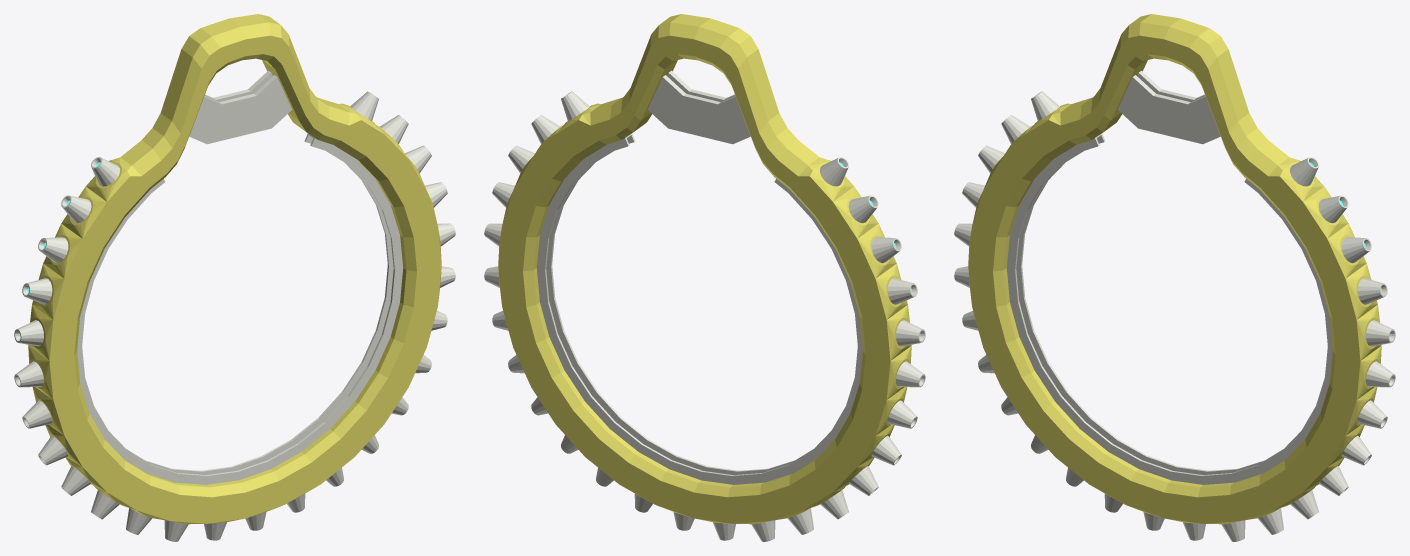
Rendered from boss portal.fbx.
The picture shows the model from 3 angles, left to right: view 1: azimuth 30°, elevation 25°; view 2: azimuth 150°, elevation 25°; view 3: azimuth 330°, elevation 25°; orthographic projection.
Visible parts, largest first — view 1: Circle.001; view 2: Circle.001; view 3: Circle.001.
Boxes of the visible parts, <box> form: Circle.001: <box>14,14,455,541</box>; Circle.001: <box>484,14,925,541</box>; Circle.001: <box>954,14,1395,541</box>.
Size of the model in its own units: 14473 by 16221 by 1225.
